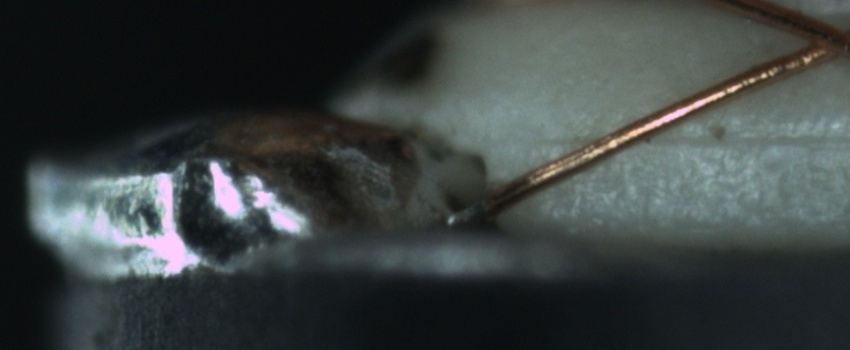CL: (781, 6, 848, 69)
DL: (536, 107, 850, 171)
TS: (444, 195, 490, 224)
